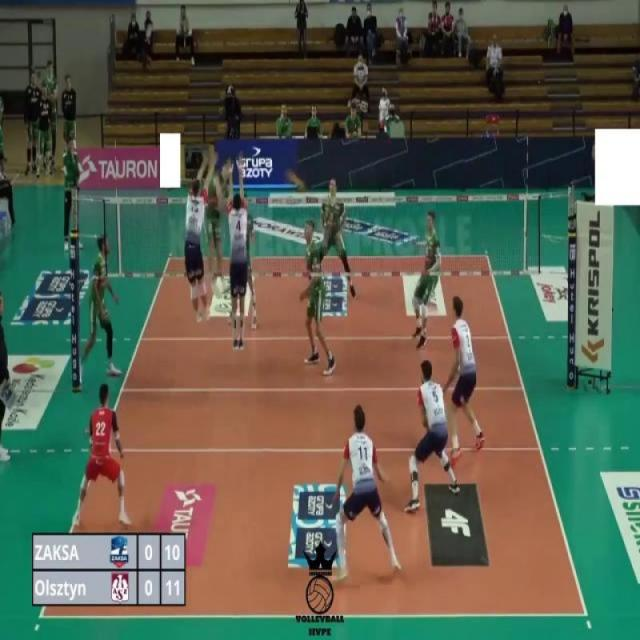volleyball: (220, 161, 232, 182)
